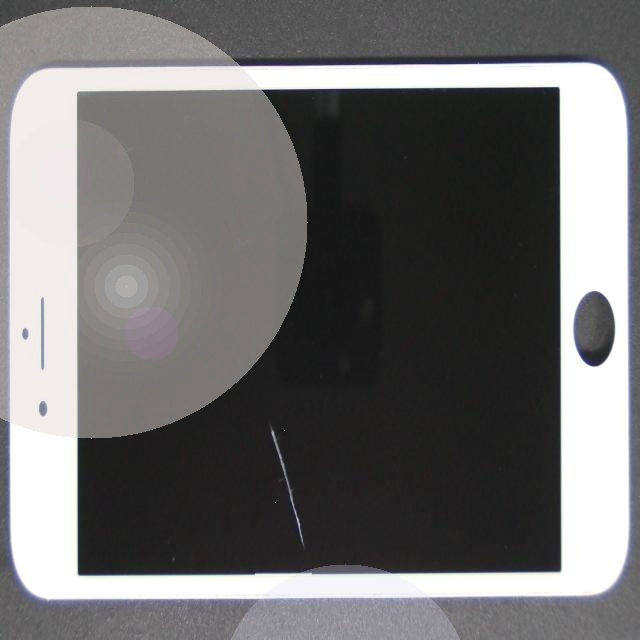scratch: (102, 131, 409, 640)
